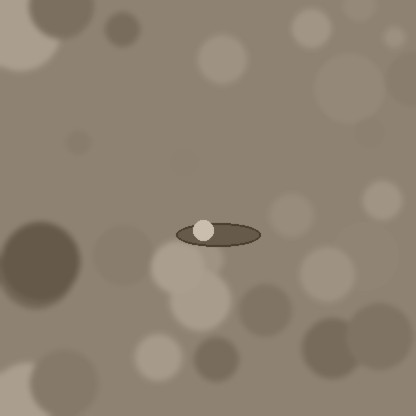gota: (176, 224, 260, 248)
